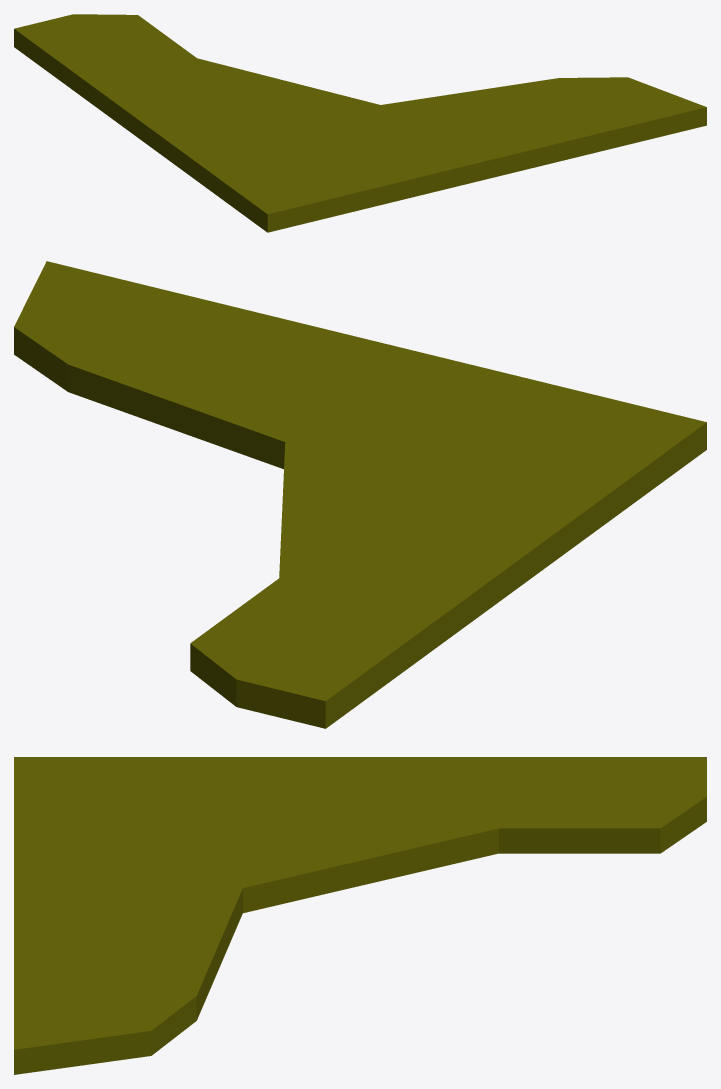
Rendered from x_0_boloto_32_1_rmstrd.fbx.
The picture shows the model from 3 angles, top to bottom: view 1: azimuth 30°, elevation 25°; view 2: azimuth 150°, elevation 25°; view 3: azimuth 270°, elevation 25°; orthographic projection. The views are drawn at different scales.
Visible parts, largest first — view 1: x_0_boloto_32_1_rmstrd1; view 2: x_0_boloto_32_1_rmstrd1; view 3: x_0_boloto_32_1_rmstrd1.
Part boxes in pixels (bbox=[...]): x_0_boloto_32_1_rmstrd1: bbox=[14, 14, 706, 232]; x_0_boloto_32_1_rmstrd1: bbox=[14, 261, 706, 728]; x_0_boloto_32_1_rmstrd1: bbox=[14, 757, 706, 1074].
Size of the model in its own units: 5 by 0.2 by 5.
